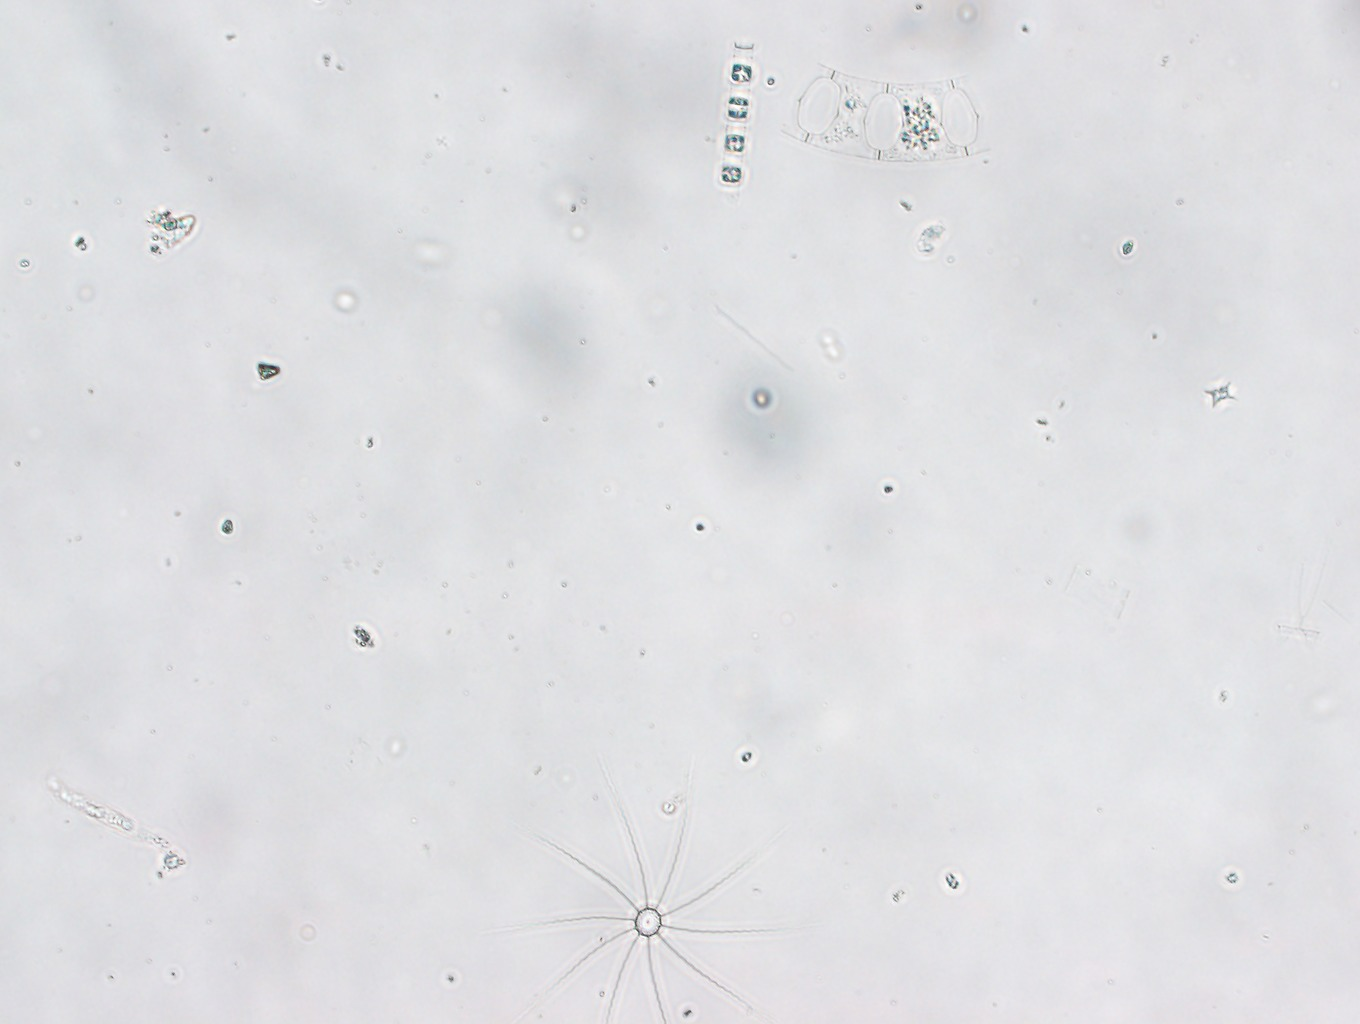bacteriastrum: (532, 768, 777, 1024)
eucampia: (784, 61, 994, 163)
skeletonema: (720, 41, 755, 193)
